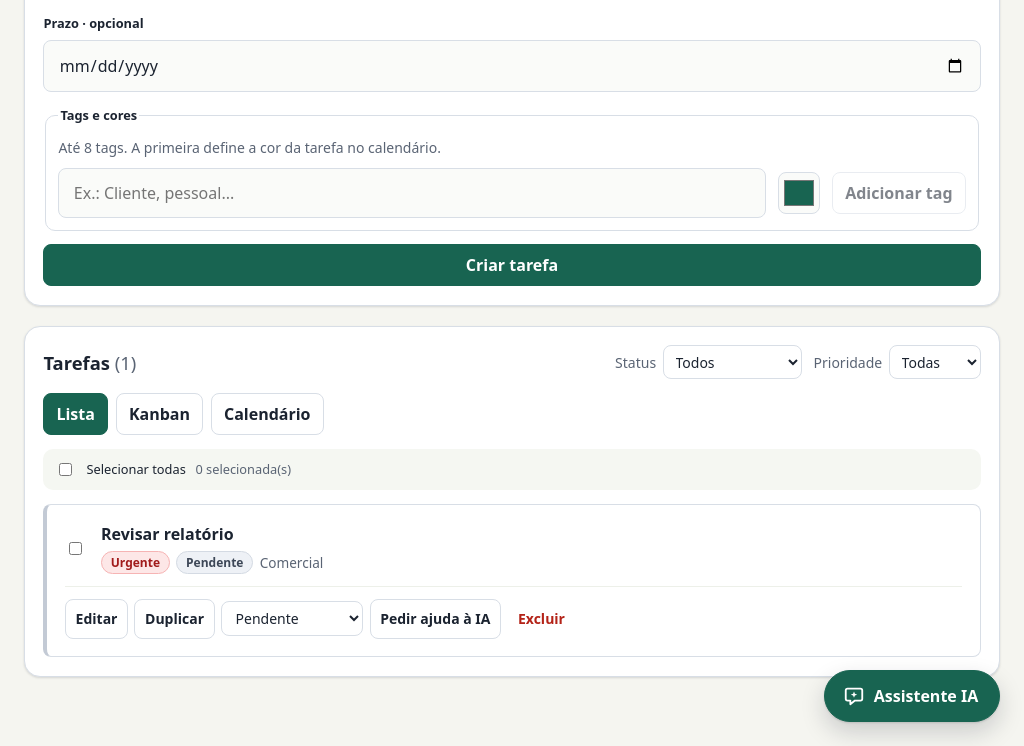
Test: TasksPage reloads with the current query › a task the chat creates after opening the Kanban reloads every status
The width and height of the screenshot is (1024, 746).
(page scrolled)
Expected: the text "Revisar relatório" is shown, [101,523,234,545]
Select "Pendente" in the dropdown named "Filtrar por status" at (732,362), box [662,345,802,379]
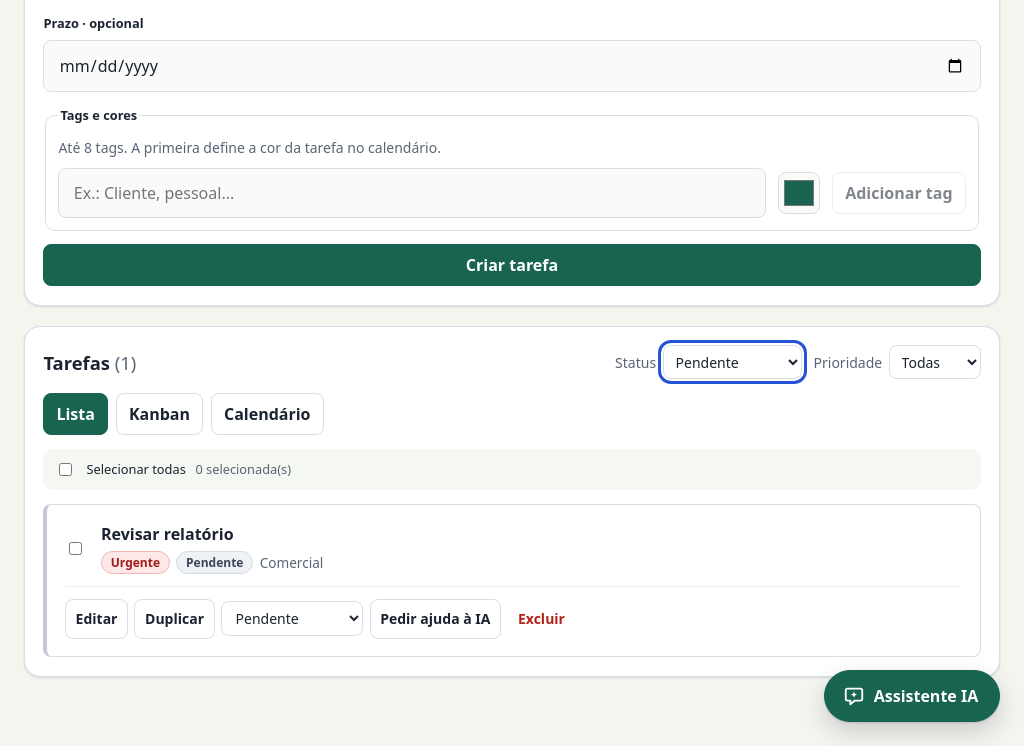
Expected: the text "Revisar relatório" is shown, [101,523,234,545]
Click the button "Assistente IA" at (912,696), box [824,670,1000,722]
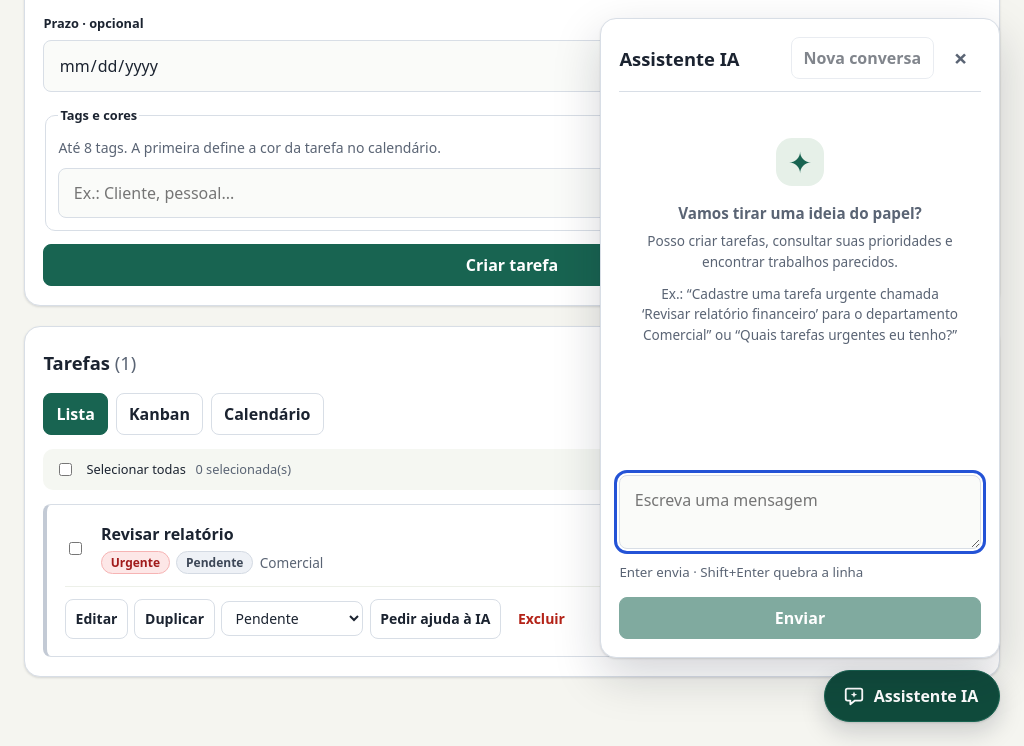
Type "crie uma tarefa" into the text box named "Mensagem para o assistente" at (800,512), box [619,475,981,549]
Then press Enter
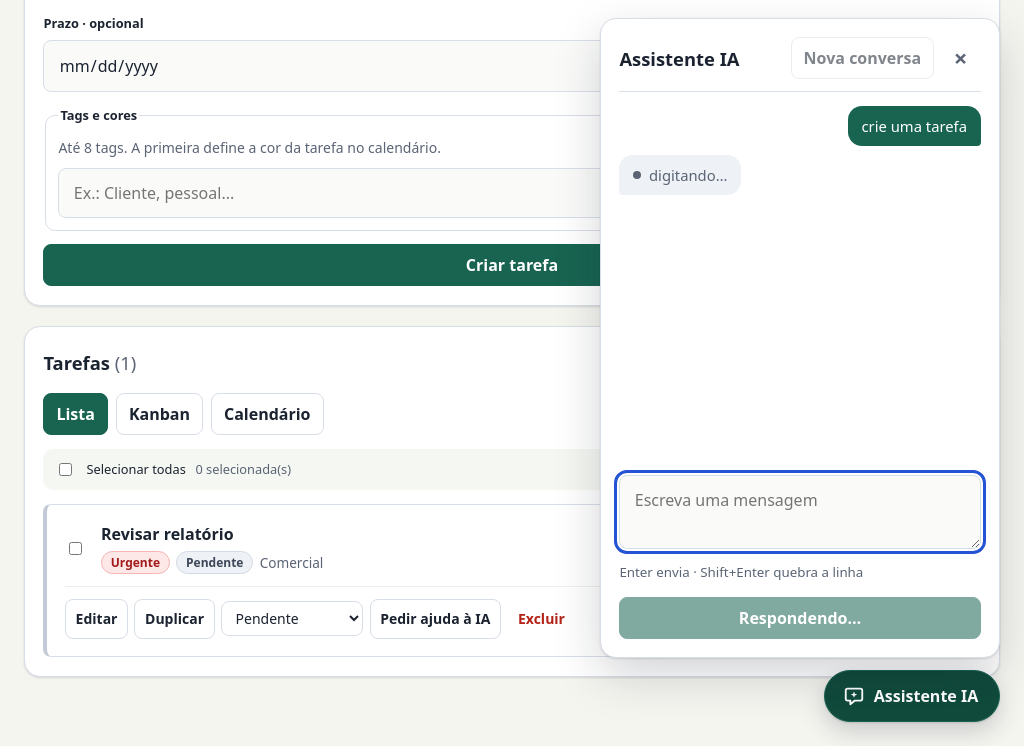
Click the button named "Fechar assistente" at (961,58), box [941,38,981,78]
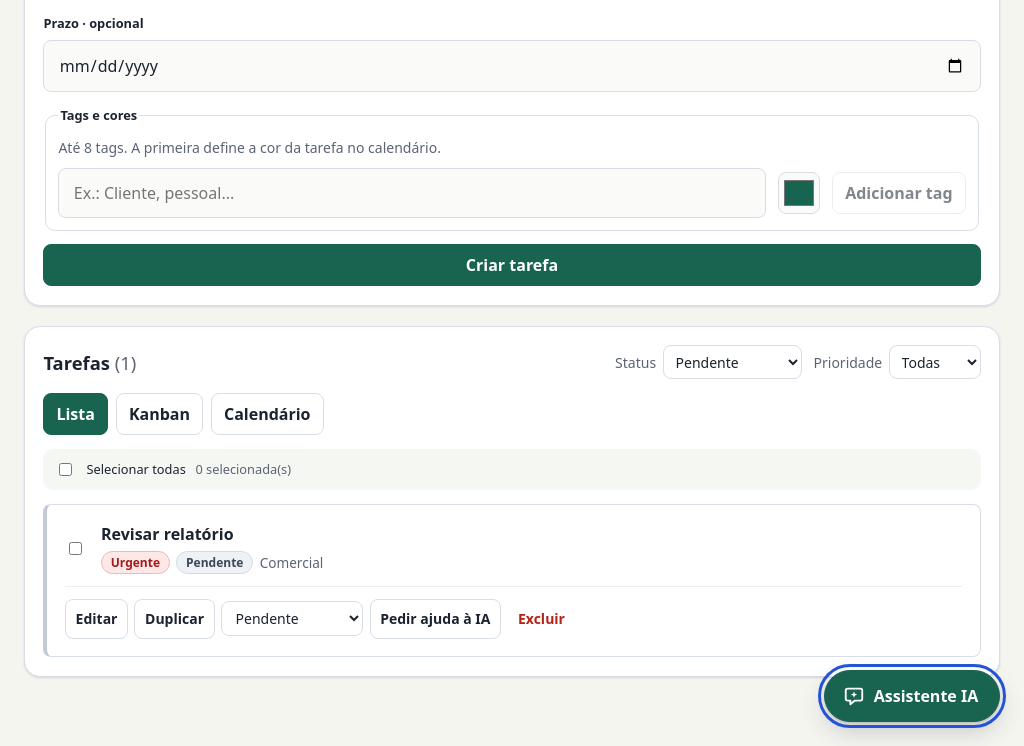
Click the tab "Kanban" at (159,414), box [116,393,203,435]
(page scrolled)
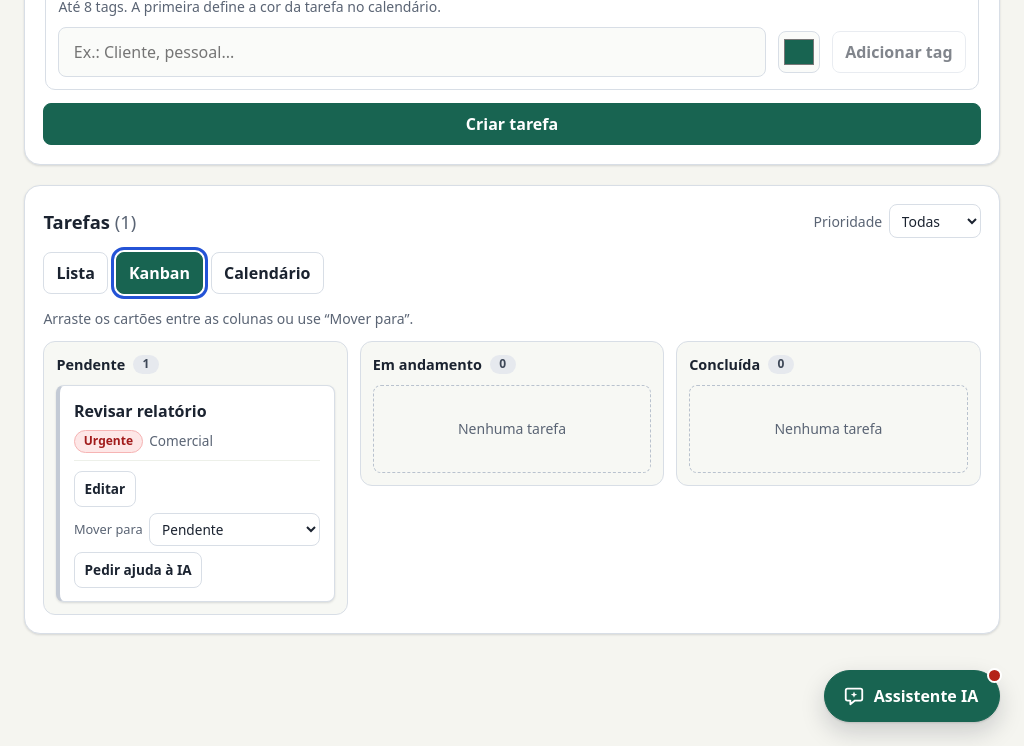
Expected: the element "Pendente" is shown, [43,341,348,615]
